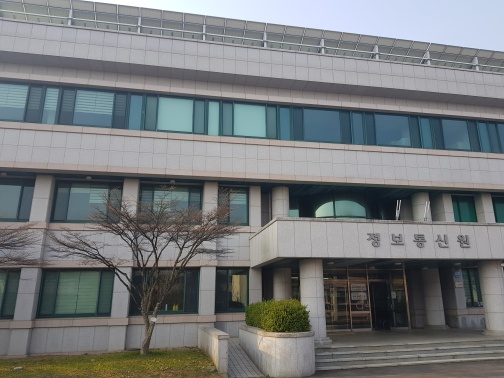Information Telecommunication Center: (4, 6, 502, 347), (296, 264, 498, 338), (333, 272, 430, 332), (350, 222, 485, 260)
